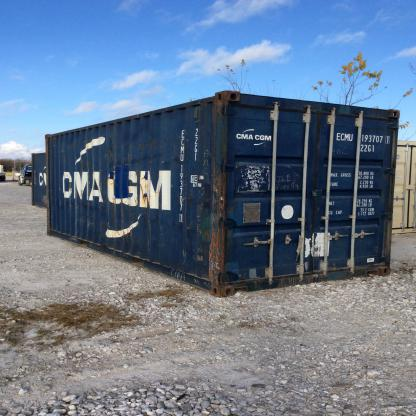Damage: (51, 154, 152, 259), (208, 98, 228, 297), (175, 161, 208, 279), (232, 162, 308, 192), (101, 139, 184, 152), (154, 206, 168, 244), (48, 137, 58, 144)
